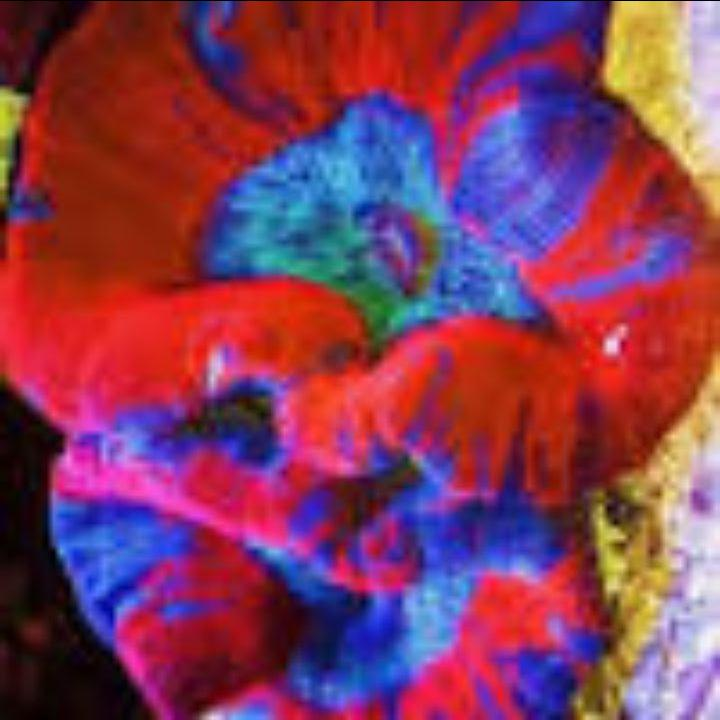Healthy Coral: (73, 35, 677, 668)
